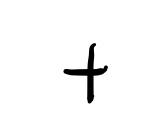plus: (63, 42, 111, 104)
